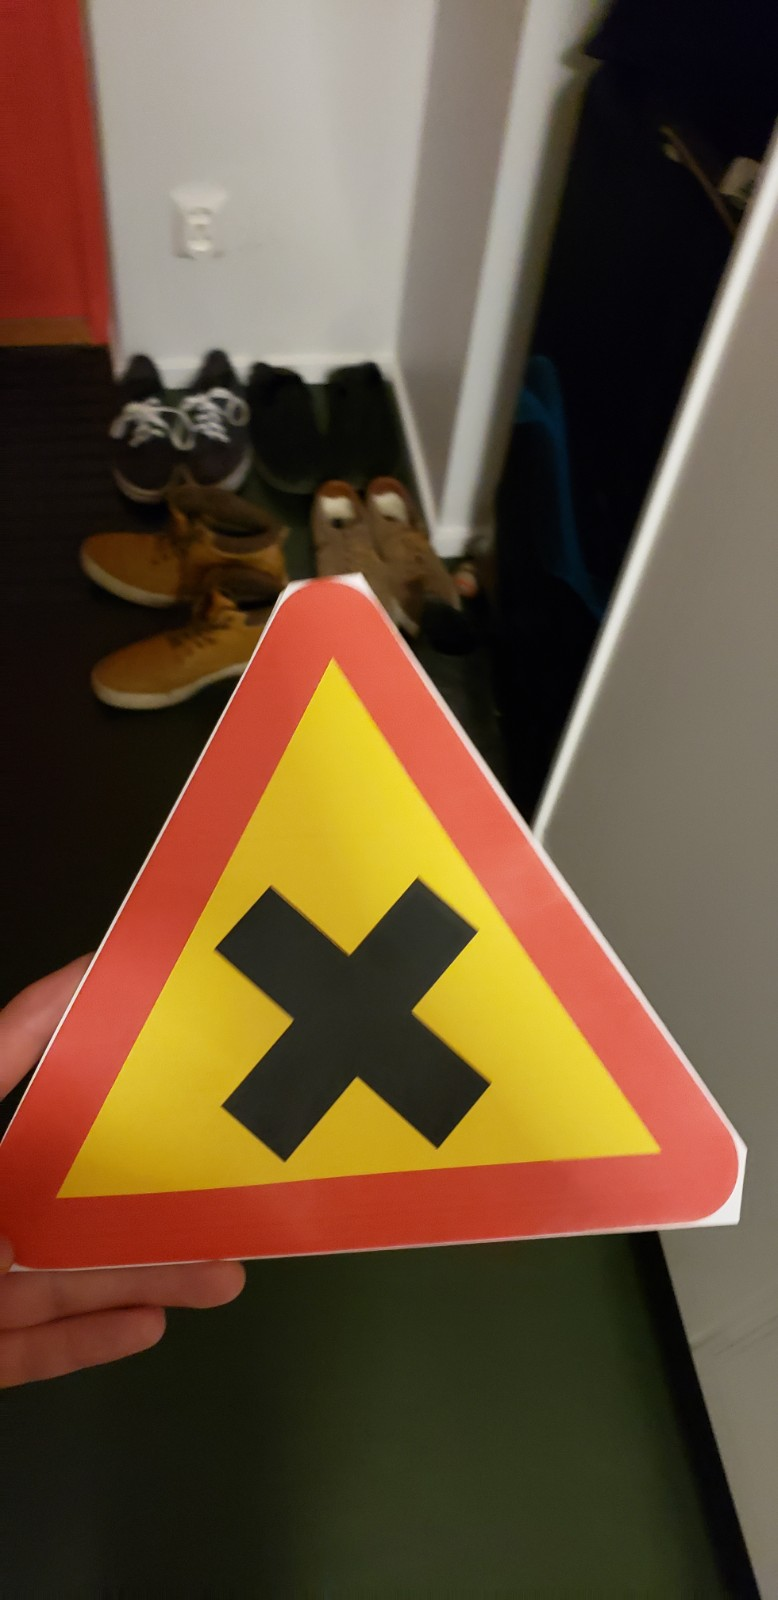junction: (19, 544, 759, 1306)
